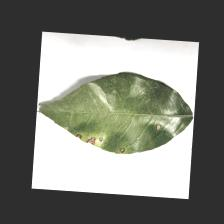canker: (66, 114, 170, 156)
